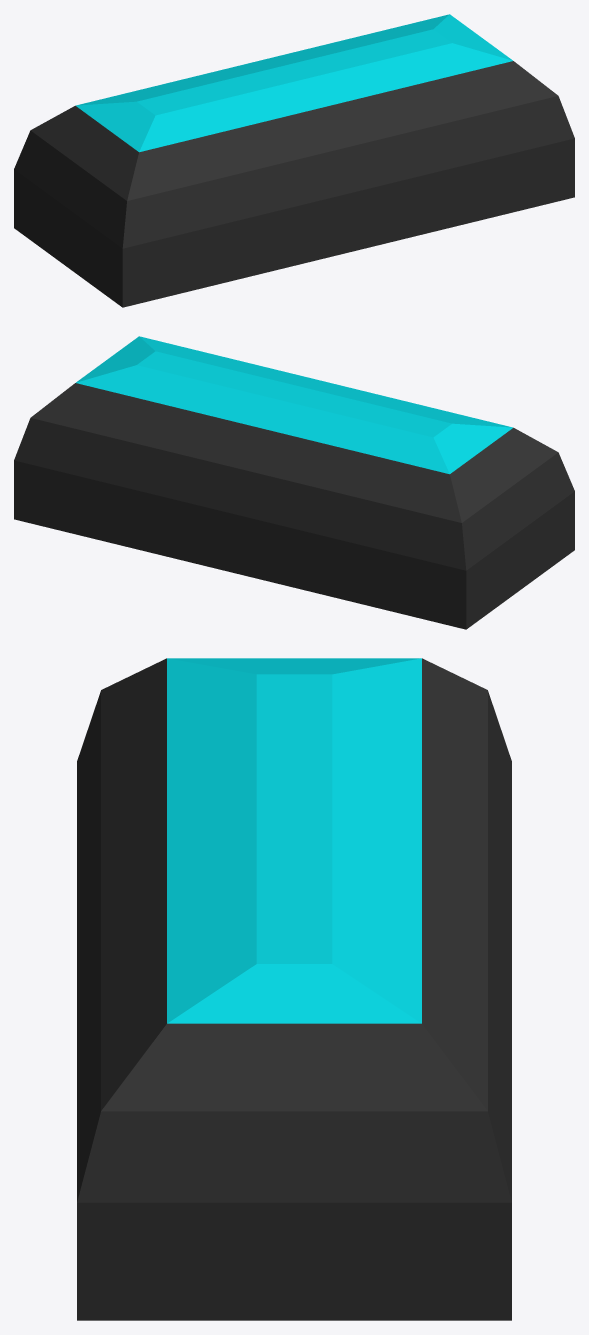
Rendered from SSButton.glb.
The picture shows the model from 3 angles, top to bottom: view 1: azimuth 30°, elevation 25°; view 2: azimuth 150°, elevation 25°; view 3: azimuth 270°, elevation 25°; orthographic projection. The views are drawn at different scales.
Parts seen in each view (by area): view 1: Cube.001; view 2: Cube.001; view 3: Cube.001.
Part boxes in pixels (box(x1,y1,x2,y2)): Cube.001: box(14, 14, 574, 307); Cube.001: box(14, 336, 574, 629); Cube.001: box(77, 658, 511, 1320).
Bounding box in the file's own units: 0.3718 × 0.1103 × 0.1548.
